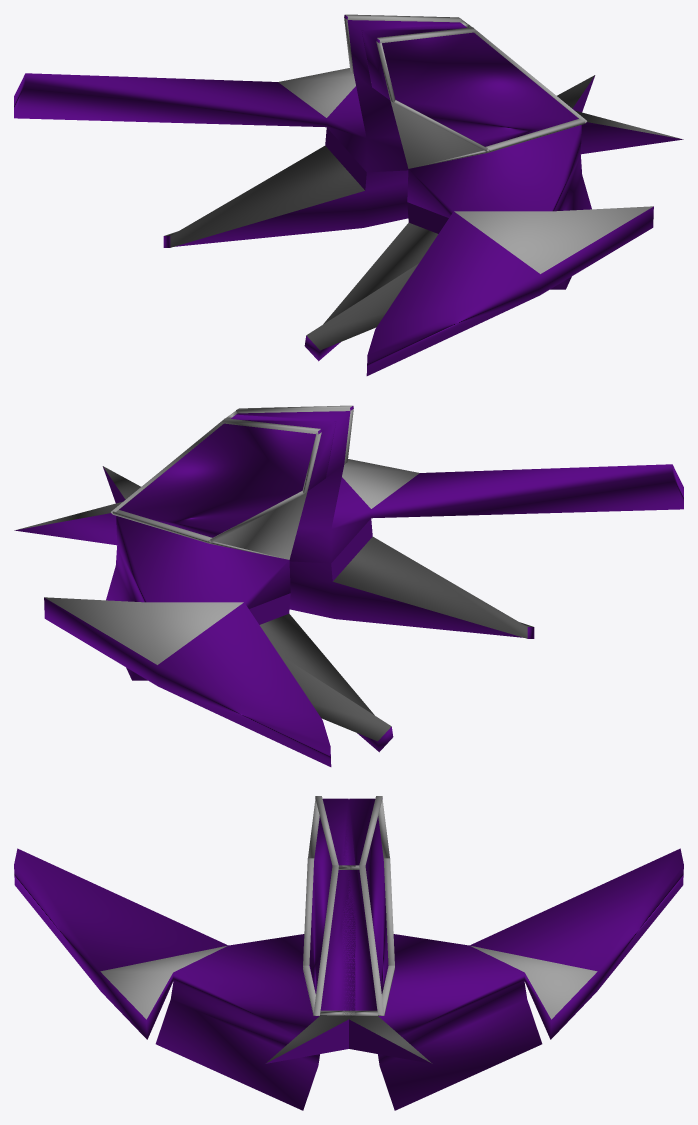
Rendered from spaceship3c.fbx.
3 renders of one model, top to bottom at view 1: azimuth 30°, elevation 25°; view 2: azimuth 150°, elevation 25°; view 3: azimuth 270°, elevation 25°, orthographic. The views are drawn at different scales.
Visible parts, largest first — view 1: Cube; view 2: Cube; view 3: Cube.
Part boxes in pixels (bbox=[...]): Cube: bbox=[14, 14, 683, 375]; Cube: bbox=[14, 405, 683, 766]; Cube: bbox=[14, 796, 683, 1110].
Size of the model in its own units: 8.67 by 4.57 by 11.82.
